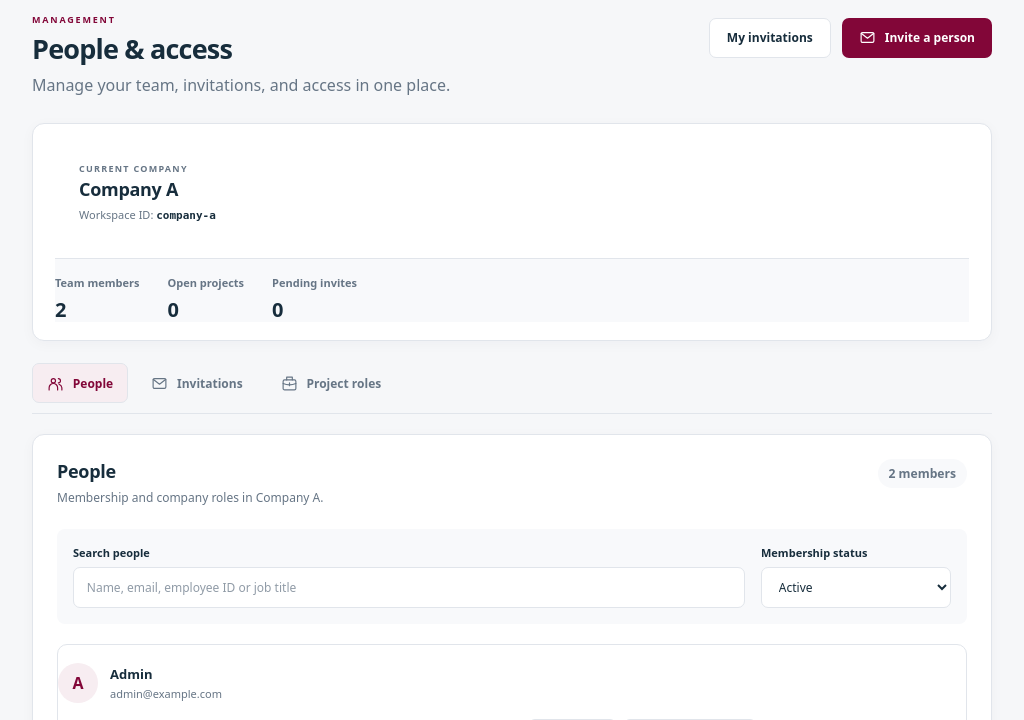
Scenario: searches people and filters active versus removed memberships
Type "Engineer" into the field labelled "Search people".
click(409, 588); type("Engineer")  # box [73,568,745,608]
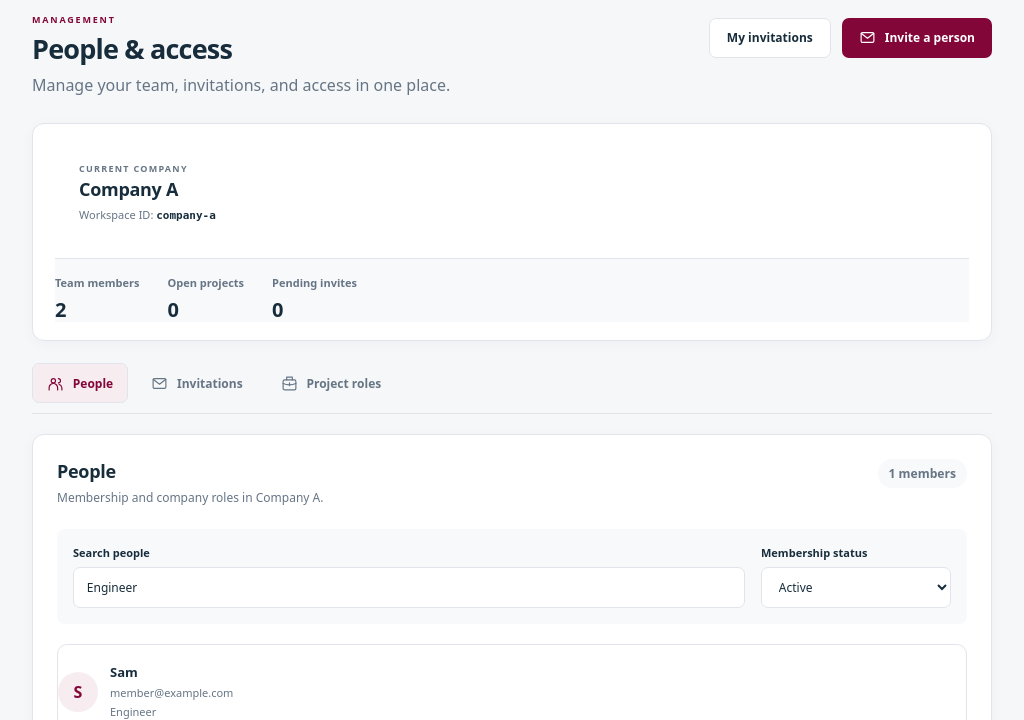
Clear the field labelled "Search people" at (409, 588), box [73,568,745,608]
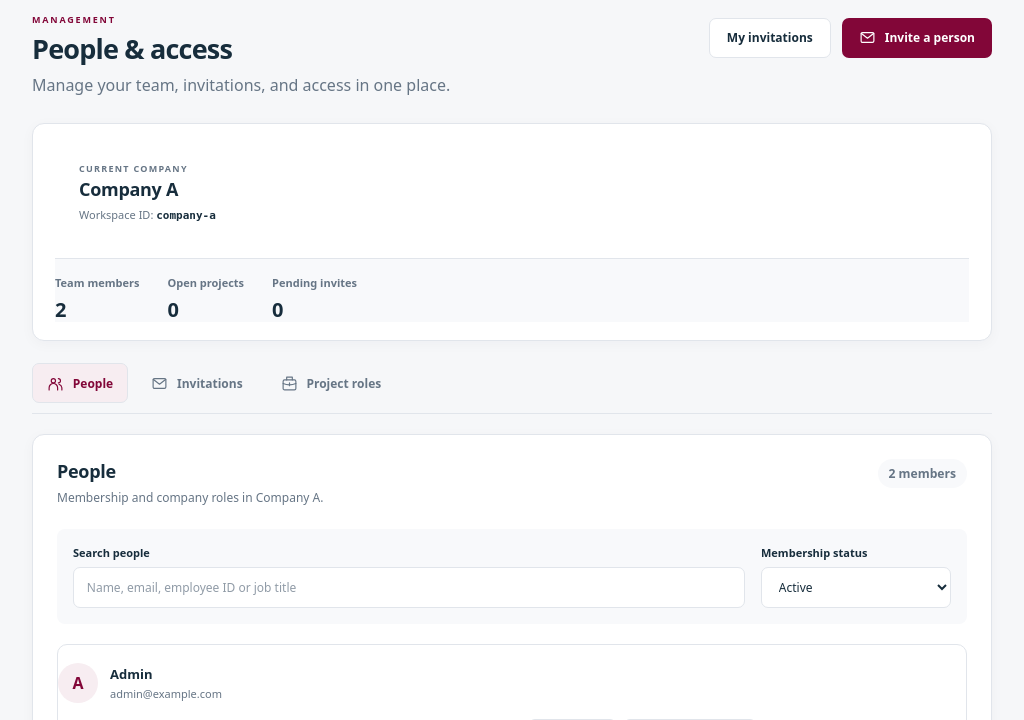
Select "Removed" in the dropdown labelled "Membership status" at (856, 588), box [761,567,951,608]
(page scrolled)
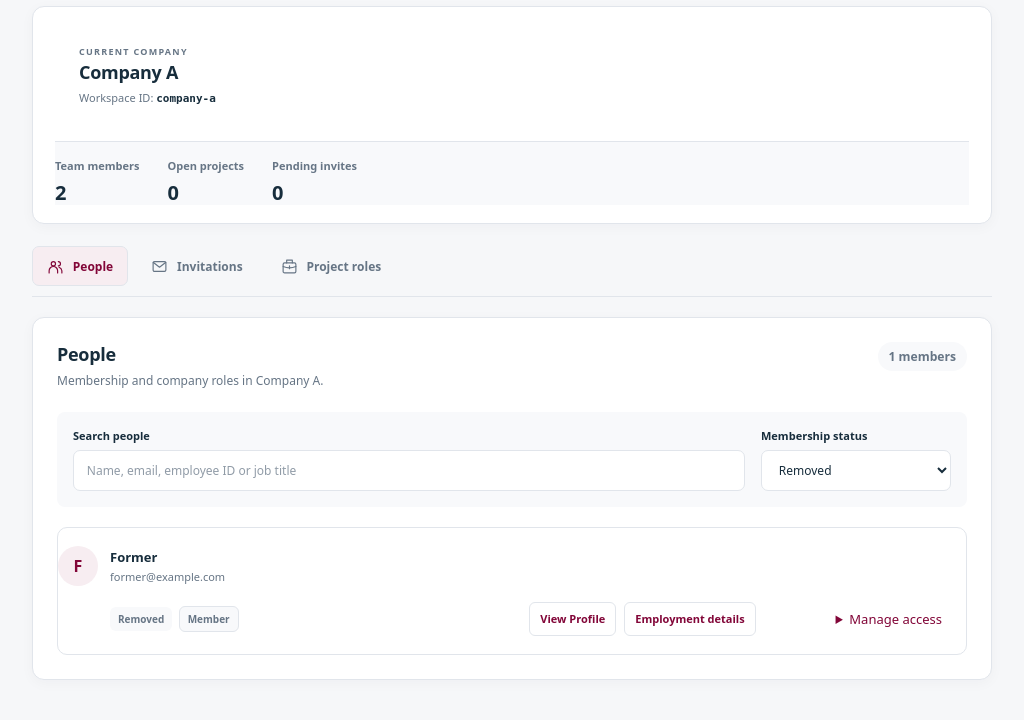
Check: the element named "Member former@example.com" is shown, box [57,527,967,655]
